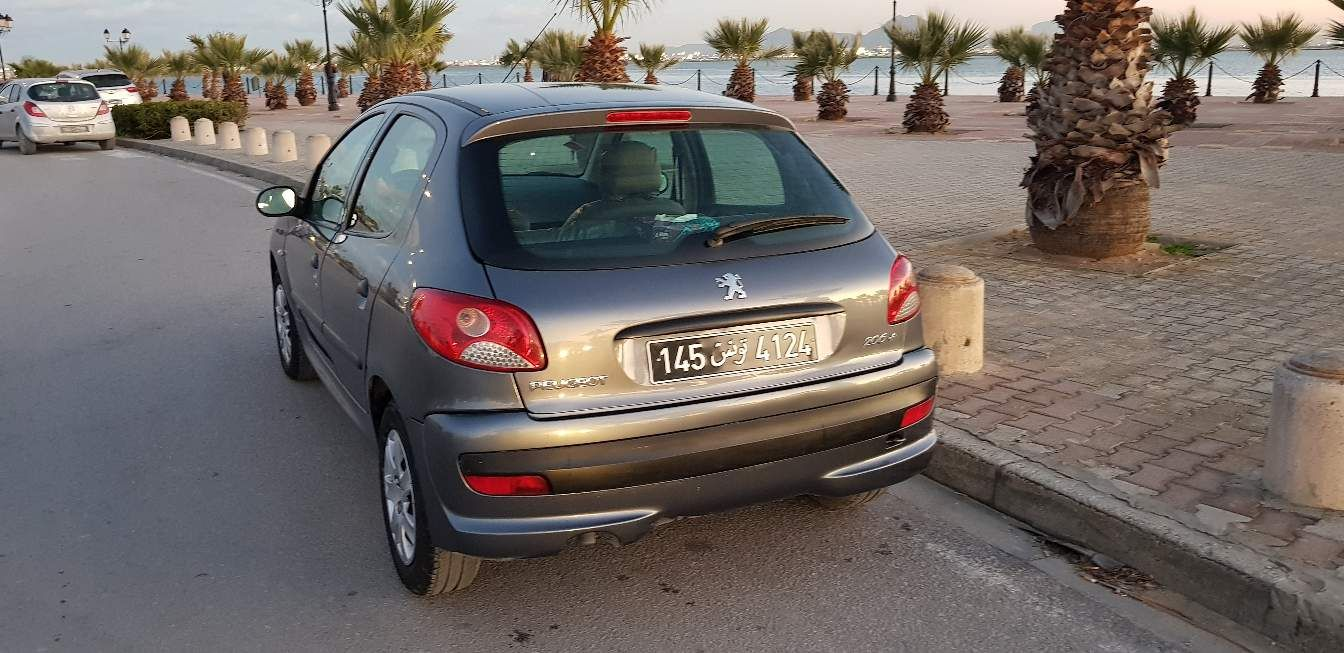LP: (642, 315, 823, 382)
